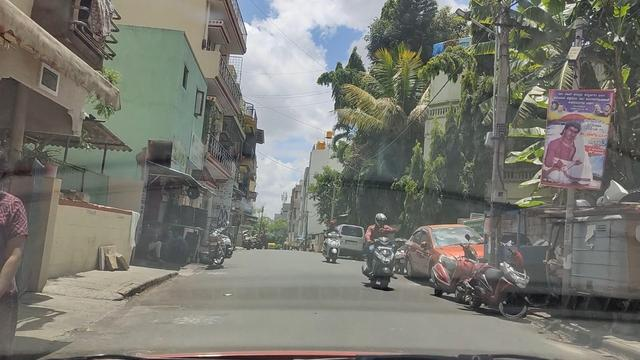LMV: (368, 214, 392, 289), (324, 223, 339, 262)
